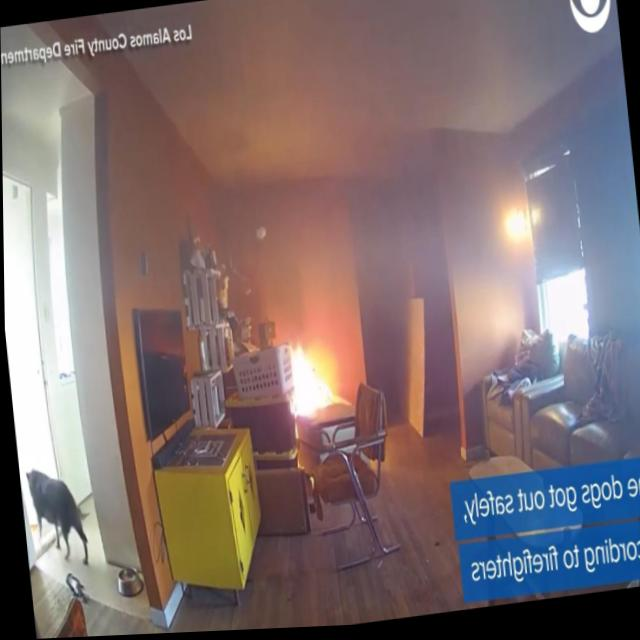fire: (283, 341, 334, 421)
